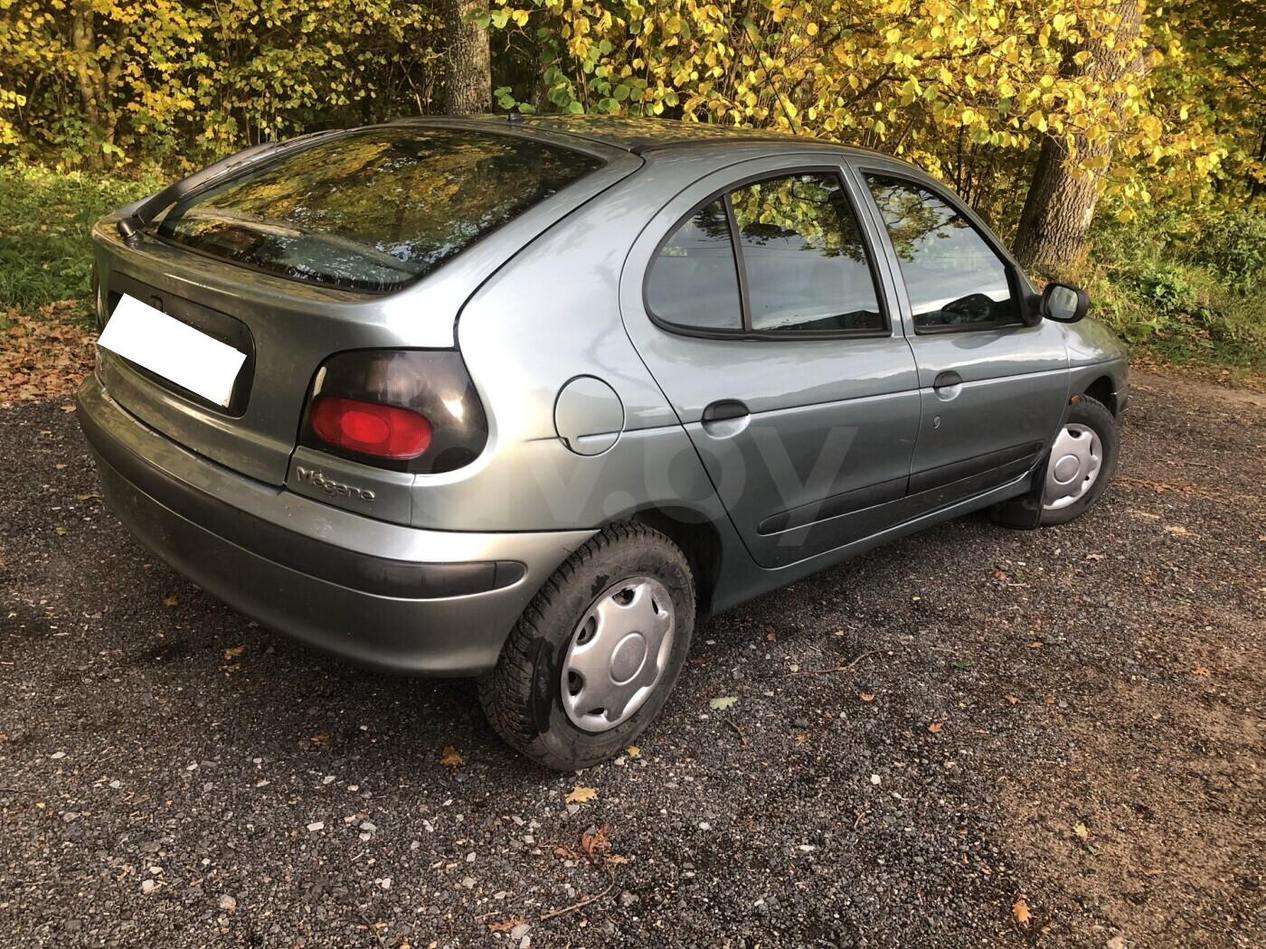Megane_1995-1999: (74, 116, 1138, 763)
